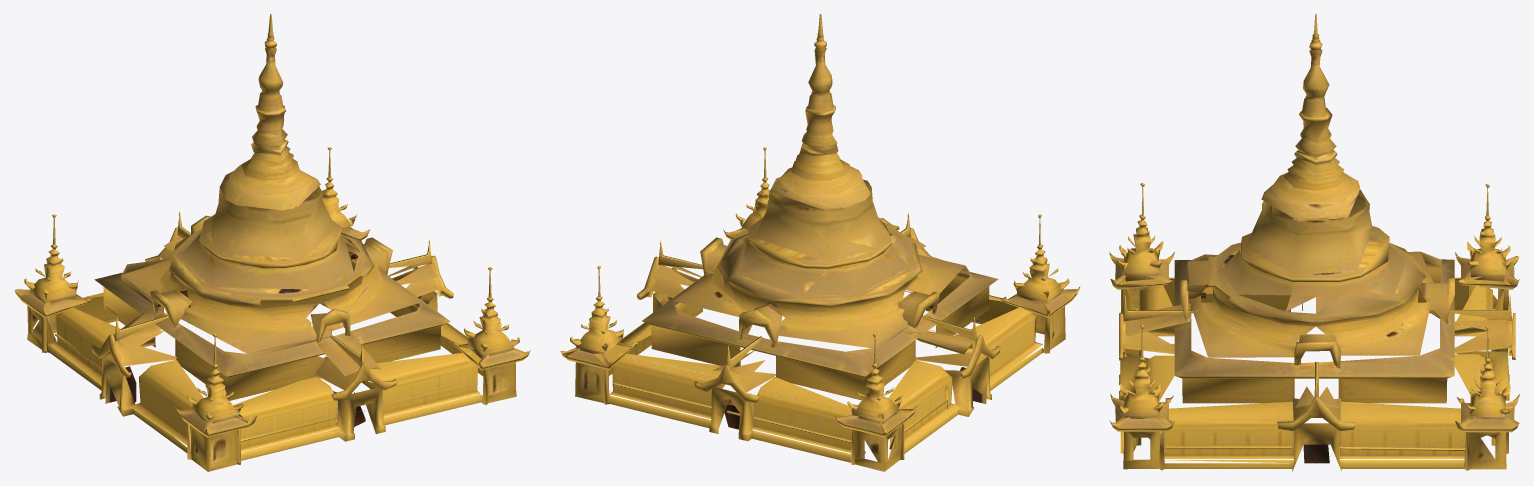
Rendered from lm_shwedagon.glb.
3 renders of one model, left to right at view 1: azimuth 30°, elevation 25°; view 2: azimuth 150°, elevation 25°; view 3: azimuth 270°, elevation 25°, orthographic. The views are drawn at different scales.
Visible parts, largest first — view 1: Trim, Body; view 2: Trim, Body; view 3: Trim, Body.
Part boxes in pixels (left/top/right/bottom): Trim: left=14, top=14, right=530, bottom=471; Body: left=94, top=254, right=450, bottom=426; Trim: left=560, top=14, right=1080, bottom=471; Body: left=642, top=266, right=998, bottom=429; Trim: left=1109, top=14, right=1519, bottom=471; Body: left=1174, top=252, right=1454, bottom=463.
Bounding box in the file's own units: 43.67 × 45.21 × 44.74.
2 materials, 2 textured.
